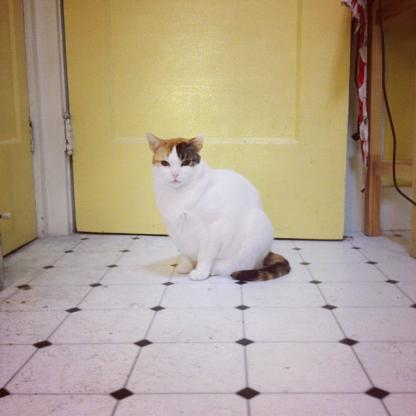Target: (139, 134, 295, 289)
